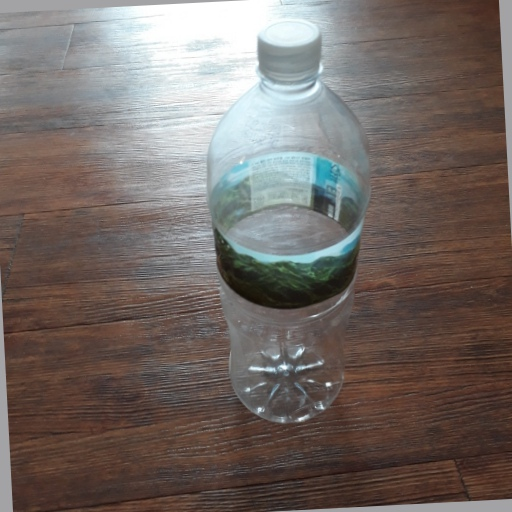Plastic_0: (206, 19, 370, 421)
